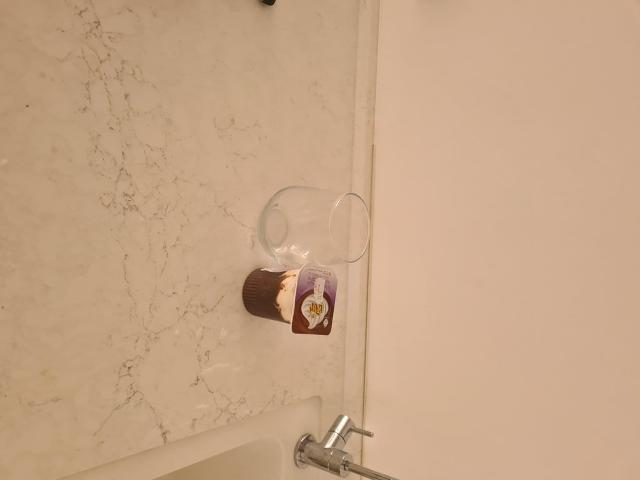milky: (238, 261, 341, 339)
